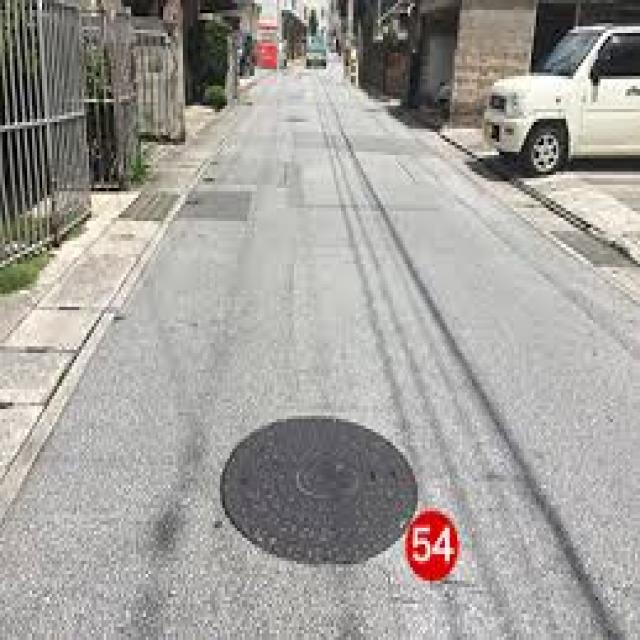manhole: (220, 415, 421, 568)
